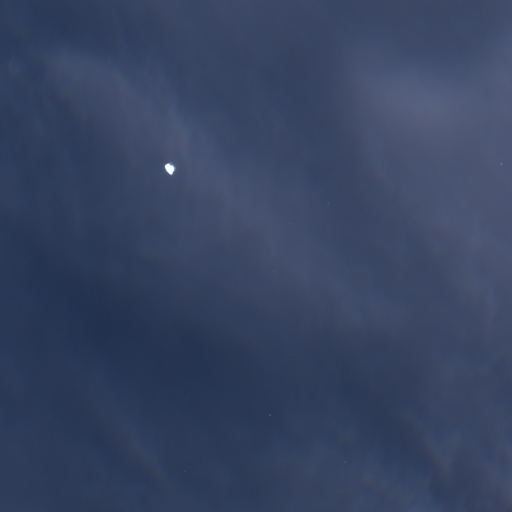Iceberg: (164, 163, 175, 174), (269, 414, 270, 416), (500, 163, 501, 164)
